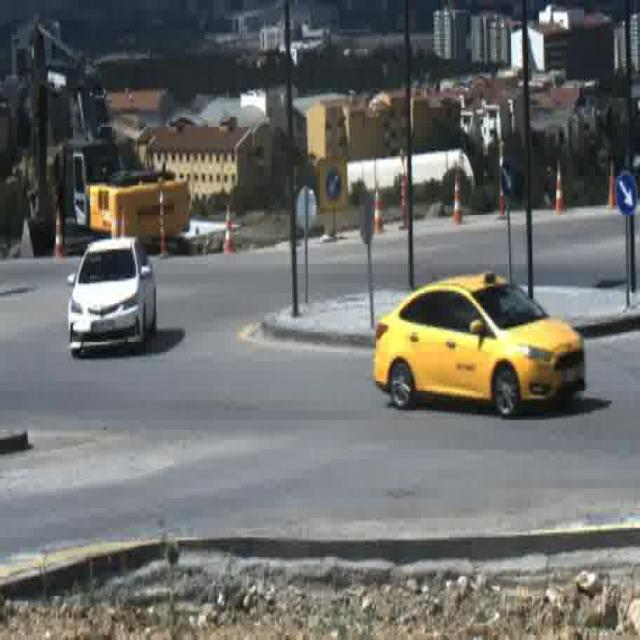Car: (372, 271, 586, 409), (67, 238, 158, 356)
